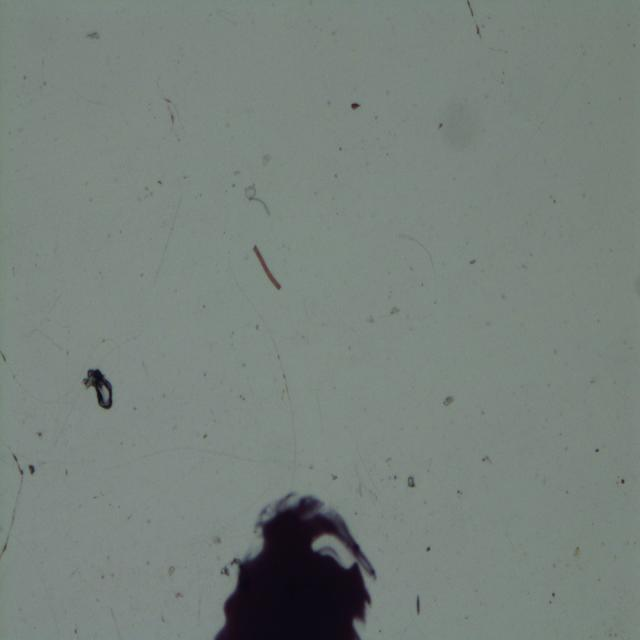Air bubble: (81, 370, 117, 408)
Background material: (457, 0, 485, 43), (244, 184, 272, 217), (160, 94, 180, 130), (144, 176, 164, 196), (345, 100, 368, 115), (378, 472, 400, 486), (610, 472, 628, 489), (85, 28, 103, 41), (387, 303, 403, 317), (403, 474, 417, 489), (441, 395, 456, 408), (261, 153, 276, 166), (572, 545, 582, 562), (34, 427, 46, 441), (24, 462, 38, 474), (365, 314, 377, 327), (167, 563, 176, 577), (328, 472, 338, 483), (482, 456, 492, 466), (455, 488, 465, 498), (425, 543, 433, 553), (550, 591, 556, 600), (593, 448, 600, 455)
Diatom: (415, 594, 421, 615)
Glass filter fibre: (0, 439, 24, 555), (400, 231, 436, 278)
Microfibre: (252, 240, 284, 290)
Pen: (213, 485, 383, 640)
